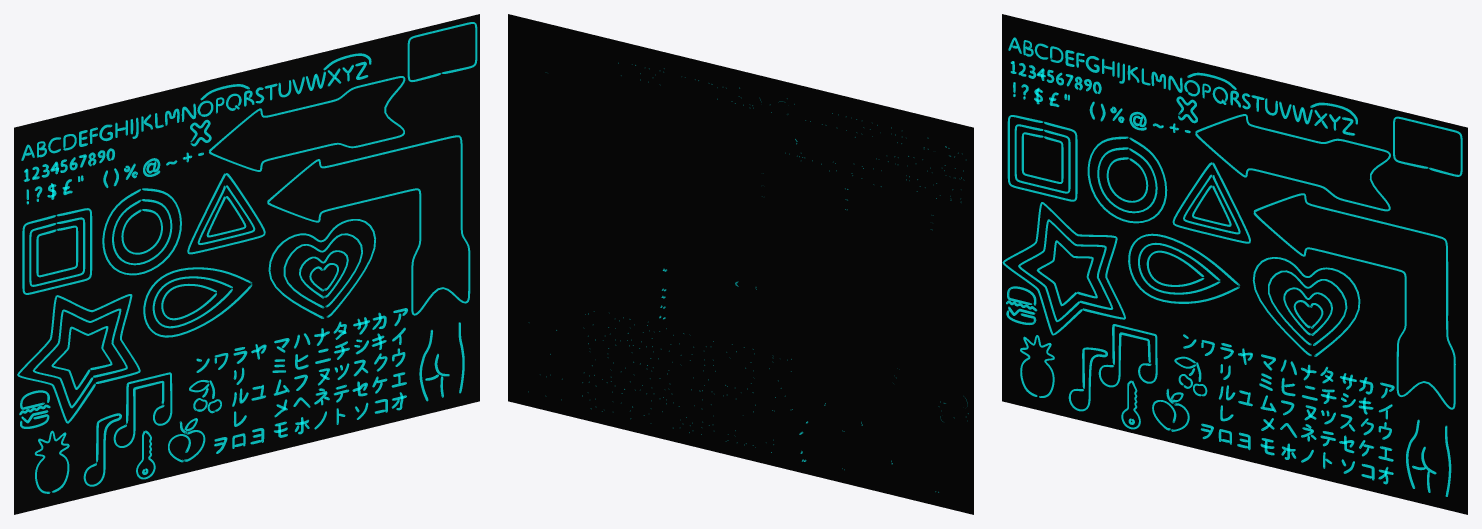
File: neon_sign_letters_and_elements.glb
3 renders of one model, left to right at view 1: azimuth 30°, elevation 25°; view 2: azimuth 150°, elevation 25°; view 3: azimuth 330°, elevation 25°, orthographic.
Visible parts, largest first — view 1: Background_0, neon_arrow_90deg.001_252, neon_arrow.001_251, neon_star.003_162, neon_musical_note.002_176, neon_star.004_163, neon_heart.004_161, neon_square.003_131, neon_teardrop.003_173, neon_circle.003_159, neon_bottom.001_258, neon_triangle.003_160 (+7 smaller); view 2: Background_0; view 3: Background_0, neon_arrow_90deg.001_252, neon_arrow.001_251, neon_star.003_162, neon_musical_note.002_176, neon_star.004_163, neon_heart.004_161, neon_square.003_131, neon_teardrop.003_173, neon_circle.003_159, neon_bottom.001_258, neon_triangle.003_160 (+6 smaller).
Boxes of the visible parts, box(x1,y1,x2,y2) form: Background_0: box(14, 14, 479, 514); neon_arrow_90deg.001_252: box(267, 135, 470, 315); neon_arrow.001_251: box(209, 76, 405, 171); neon_star.003_162: box(17, 294, 140, 423); neon_musical_note.002_176: box(113, 372, 172, 447); neon_star.004_163: box(32, 308, 127, 408); neon_heart.004_161: box(268, 219, 375, 318); neon_square.003_131: box(22, 208, 92, 294); neon_teardrop.003_173: box(143, 267, 252, 337); neon_circle.003_159: box(102, 188, 181, 275); neon_bottom.001_258: box(419, 322, 464, 401); neon_triangle.003_160: box(187, 173, 265, 254); Background_0: box(508, 14, 973, 514); Background_0: box(1002, 14, 1467, 514); neon_arrow_90deg.001_252: box(1253, 193, 1455, 409); neon_arrow.001_251: box(1195, 114, 1390, 211); neon_star.003_162: box(1002, 202, 1125, 335); neon_musical_note.002_176: box(1098, 324, 1157, 387); neon_star.004_163: box(1018, 219, 1113, 321); neon_heart.004_161: box(1252, 257, 1360, 356); neon_square.003_131: box(1007, 115, 1077, 201); neon_teardrop.003_173: box(1128, 233, 1239, 303); neon_circle.003_159: box(1087, 136, 1167, 223); neon_bottom.001_258: box(1406, 419, 1451, 496); neon_triangle.003_160: box(1172, 162, 1250, 243).
Bounding box in the file's own units: 27.53 × 21.88 × 0.4479.
